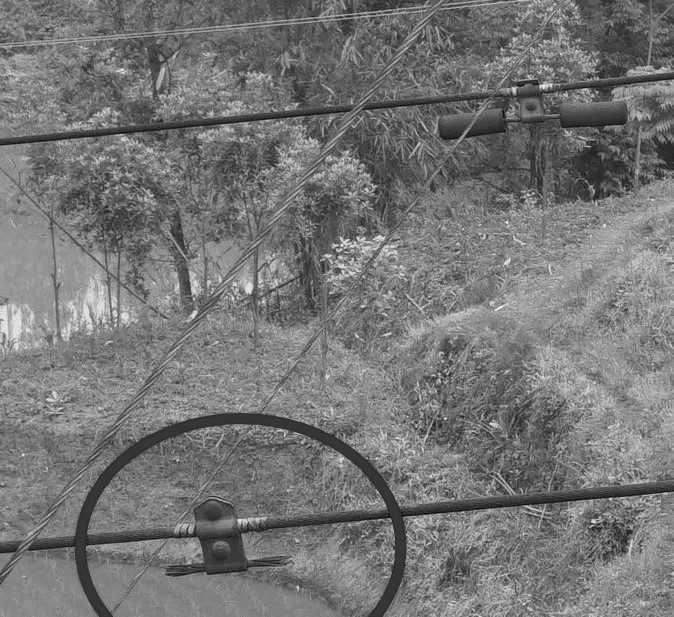Damage of shockproof hammer: (154, 484, 306, 589)
